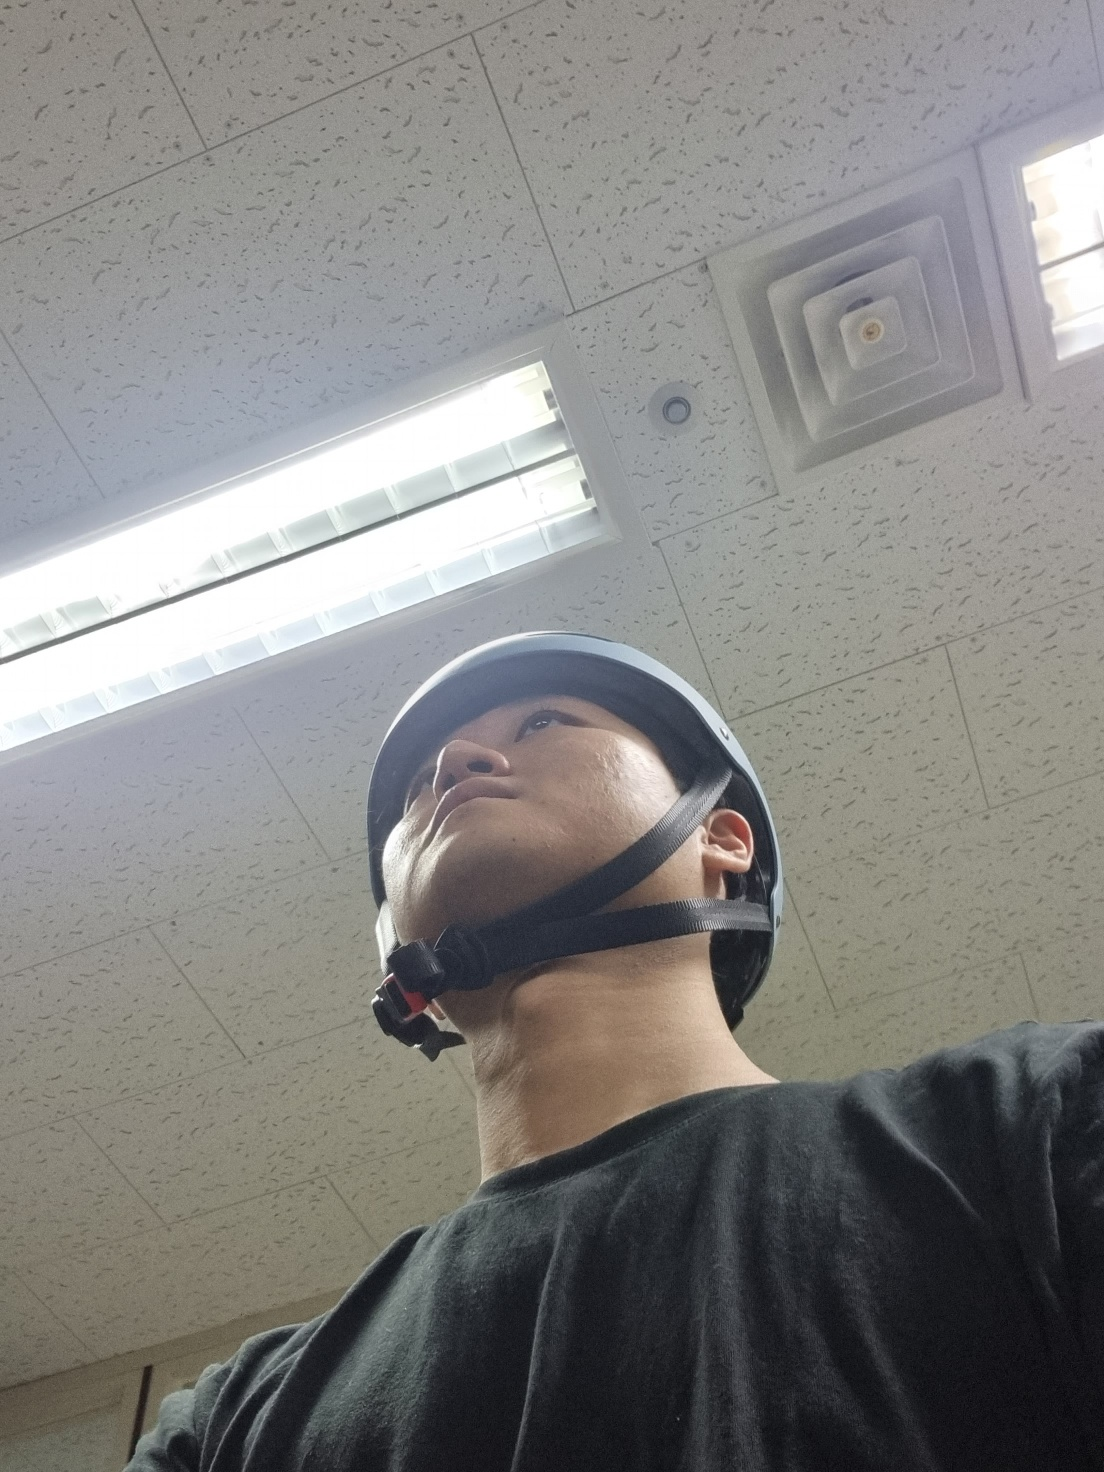Helmet: (290, 593, 827, 1098)
